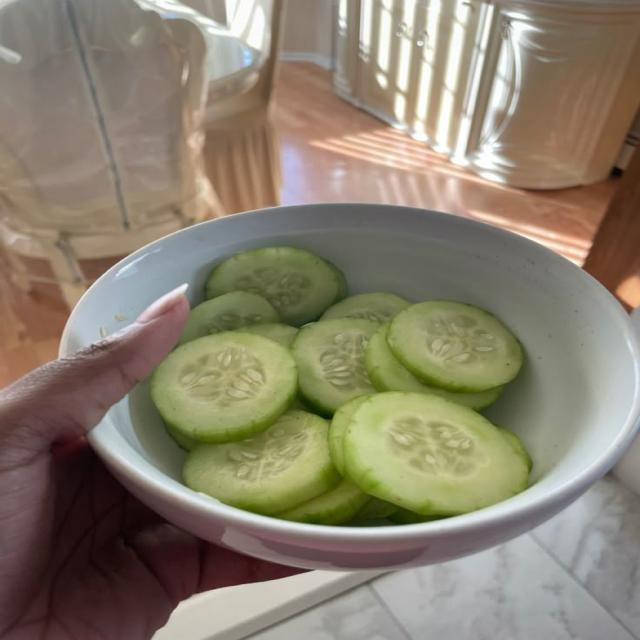cucumber sliced: (344, 393, 528, 515), (152, 332, 297, 442), (184, 412, 339, 514), (388, 301, 522, 392), (365, 323, 503, 410), (207, 247, 342, 326), (292, 318, 378, 415), (180, 291, 279, 343), (277, 481, 370, 525), (329, 395, 369, 475), (321, 293, 411, 322), (494, 425, 533, 472), (239, 323, 298, 347), (354, 497, 399, 520), (327, 261, 348, 302), (388, 509, 443, 524), (167, 427, 199, 451)
